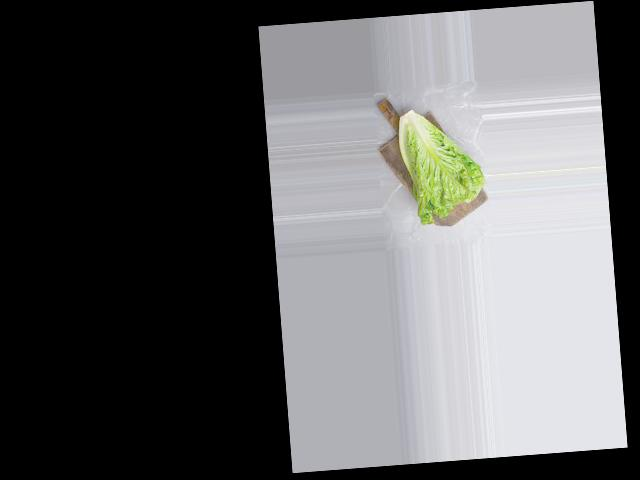lettuce: (384, 106, 485, 220)
